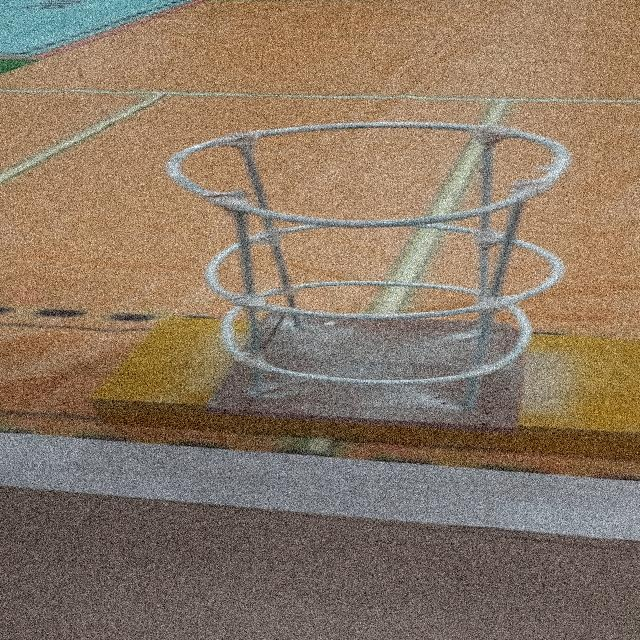silo: (138, 110, 592, 448)
